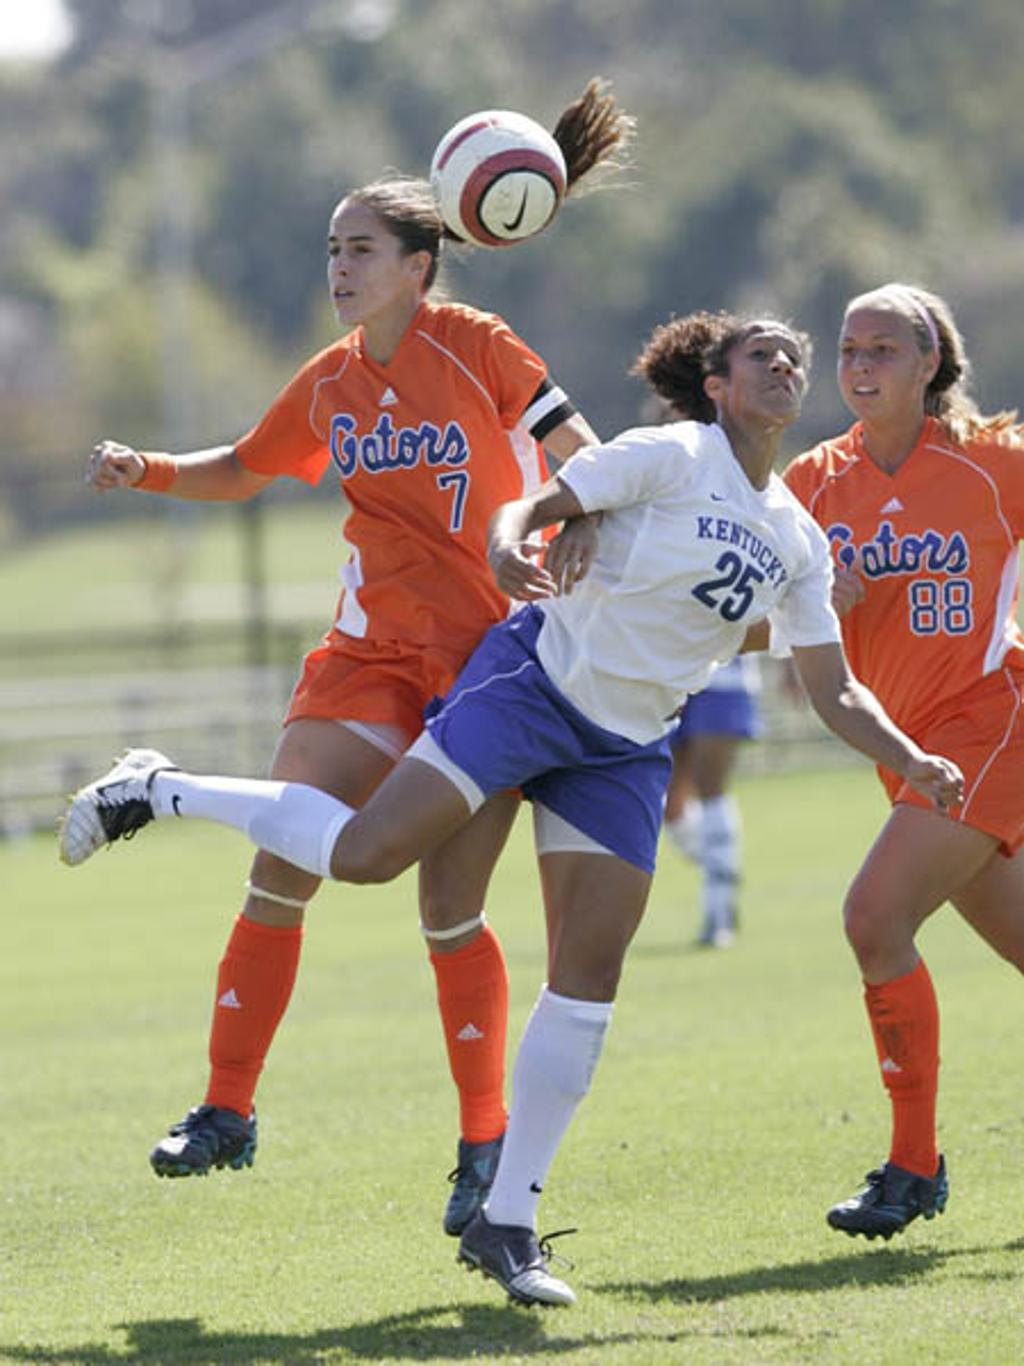face: (325, 203, 405, 326), (837, 309, 920, 418), (736, 309, 811, 421)
